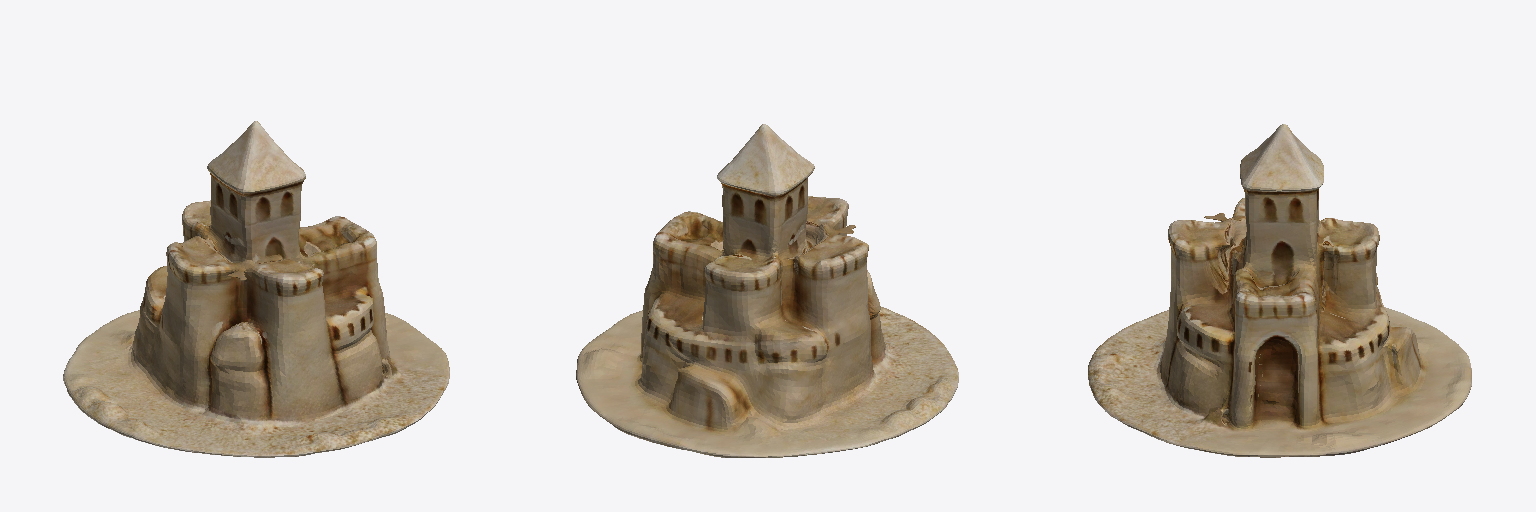
3 views of the same model, side by side, from view 1: azimuth 30°, elevation 25°; view 2: azimuth 150°, elevation 25°; view 3: azimuth 270°, elevation 25° (orthographic).
Visible parts, largest first — view 1: mesh; view 2: mesh; view 3: mesh.
Part boxes in pixels (left/top/right/bottom): mesh: left=63, top=121, right=449, bottom=457; mesh: left=576, top=124, right=958, bottom=457; mesh: left=1088, top=124, right=1471, bottom=457.
Size of the model in its own units: 0.995 by 0.7608 by 0.9956.
Materials: 1 (1 with a texture image).